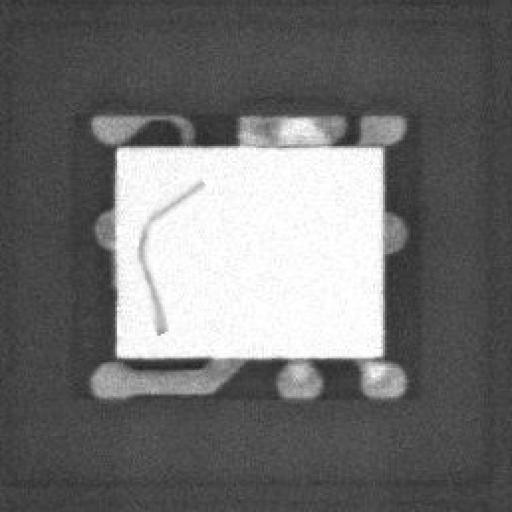DIE_INK: (127, 183, 193, 347)
